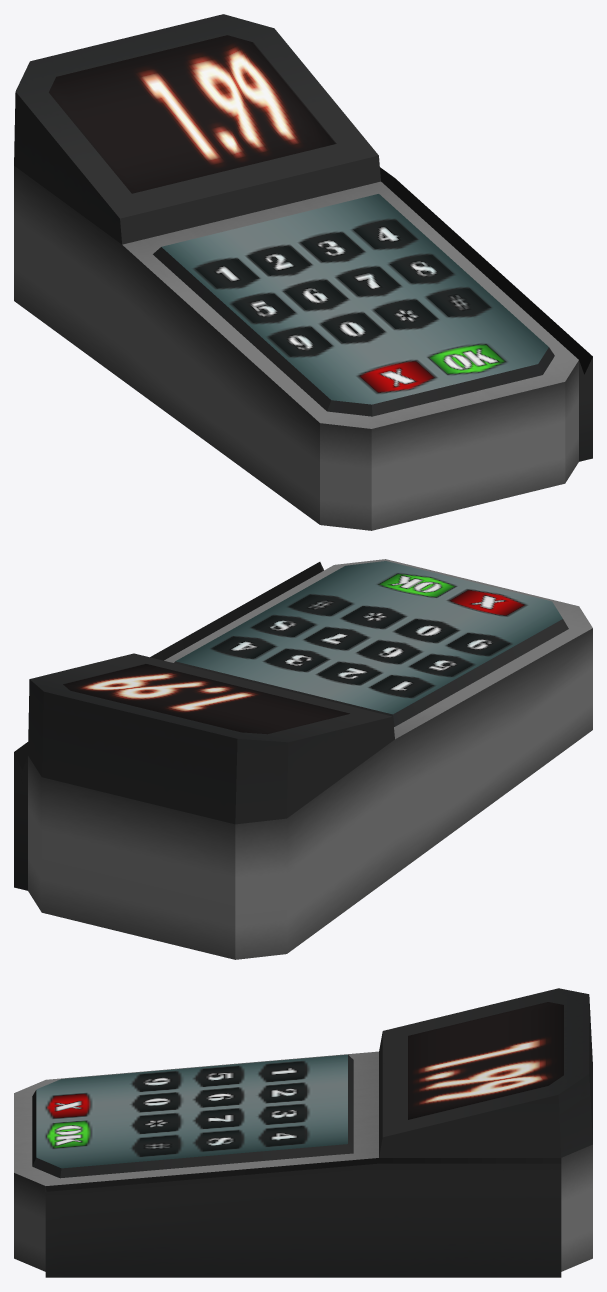
Rendered from Credit_Card_Machine_2.FBX.
3 renders of one model, top to bottom at view 1: azimuth 30°, elevation 25°; view 2: azimuth 150°, elevation 25°; view 3: azimuth 270°, elevation 25°, orthographic. The views are drawn at different scales.
Visible parts, largest first — view 1: Credit_Card_Machine; view 2: Credit_Card_Machine; view 3: Credit_Card_Machine.
Boxes of the visible parts, box(x1,y1,x2,y2) form: Credit_Card_Machine: box(14, 14, 592, 530); Credit_Card_Machine: box(14, 559, 592, 959); Credit_Card_Machine: box(14, 988, 592, 1277).
Size of the model in its own units: 52.7 by 40.5 by 115.
